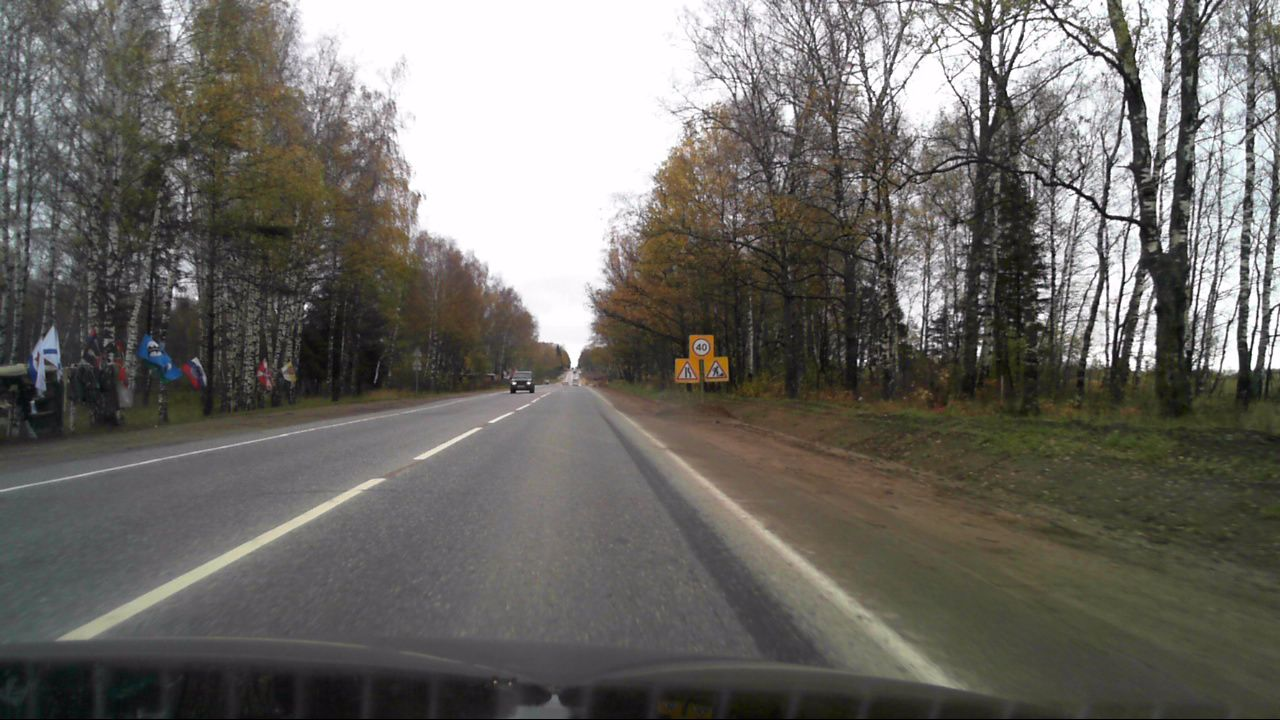speed_warning_40: (689, 335, 713, 360)
